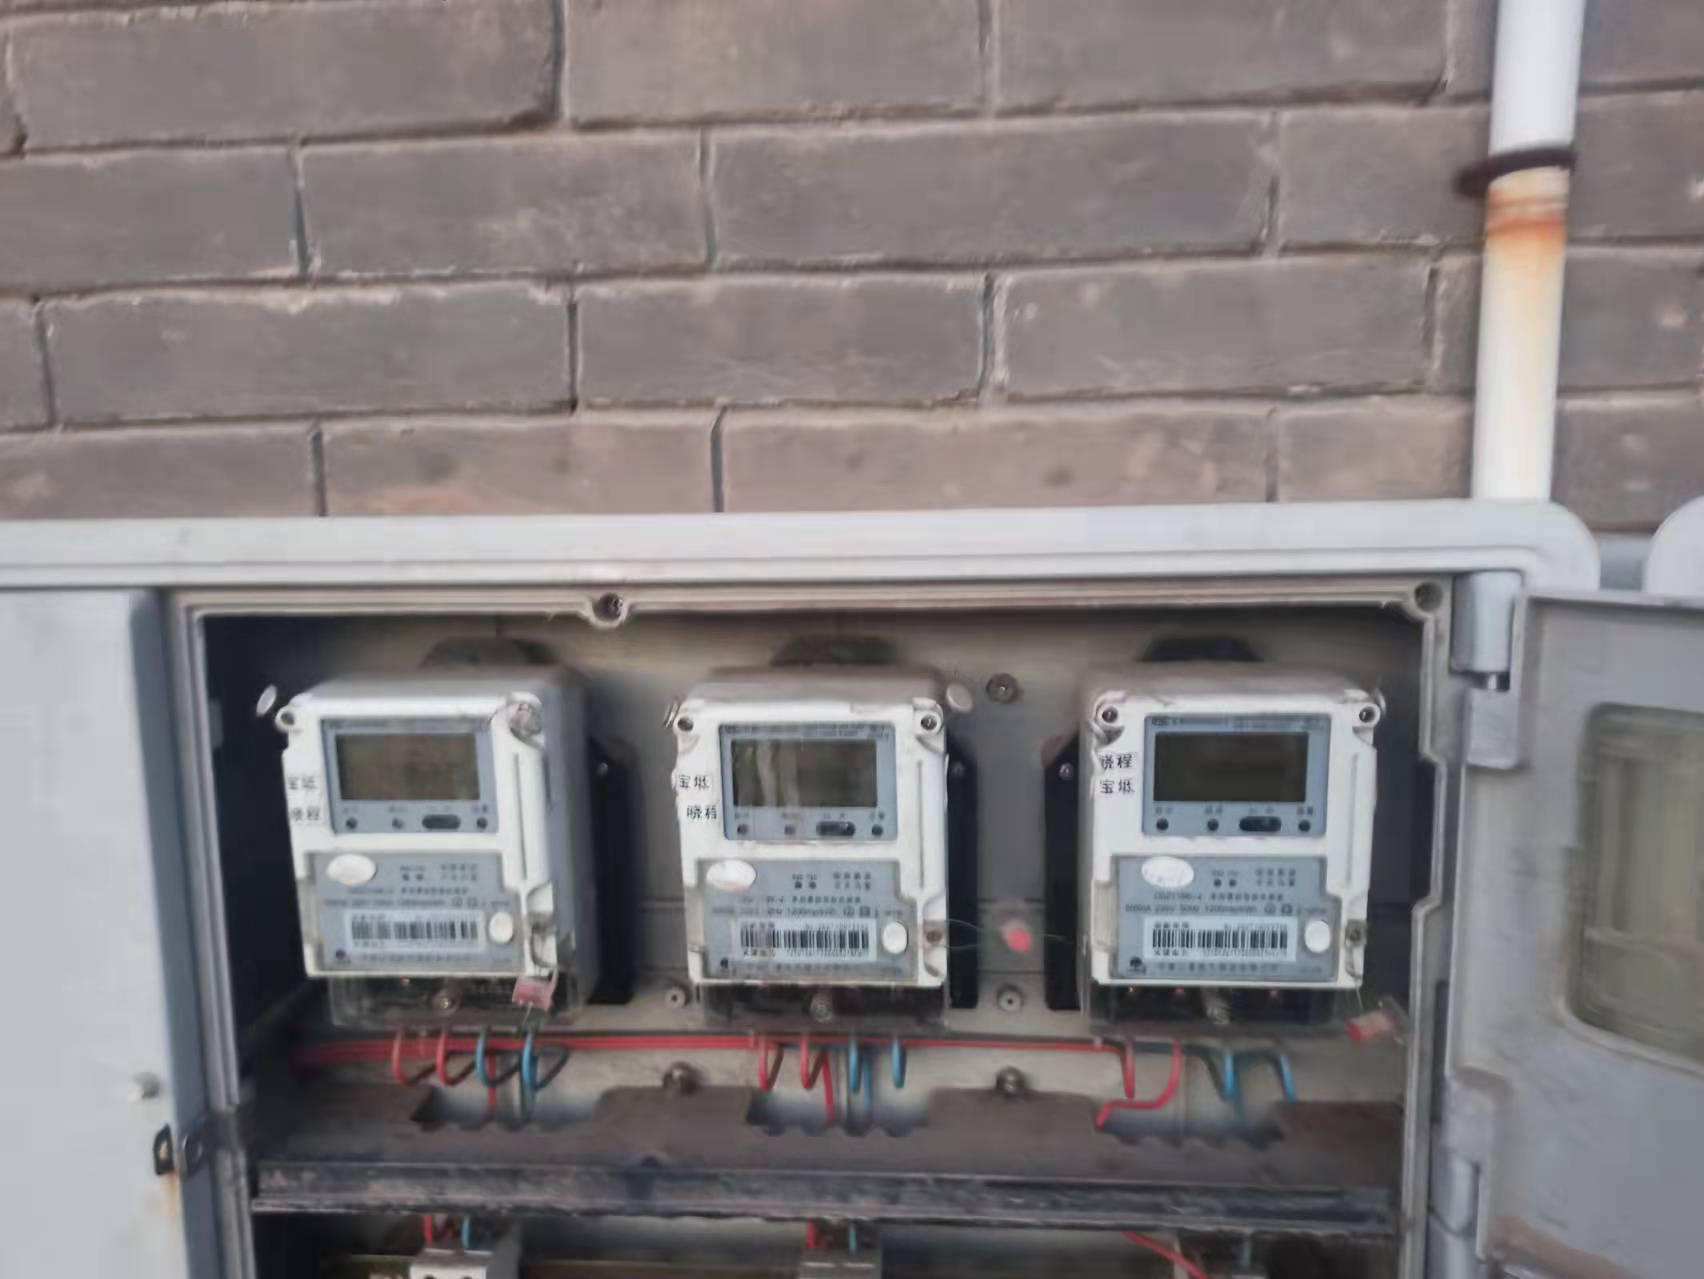digital: (1093, 693, 1372, 983), (279, 699, 556, 978), (677, 704, 949, 983)
